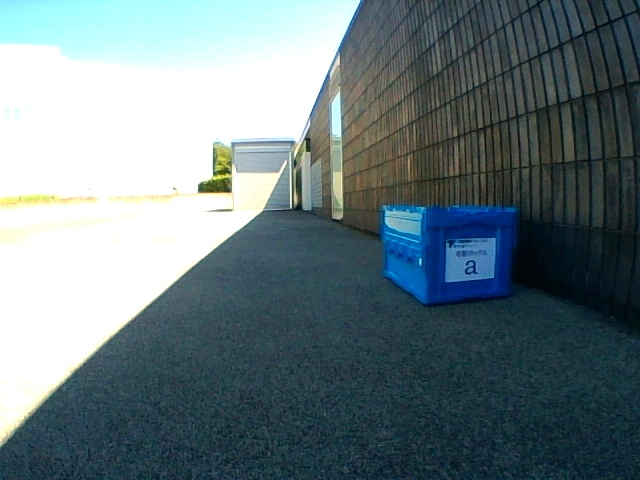blue_box: (382, 205, 516, 304)
tag_a: (449, 240, 490, 276)
